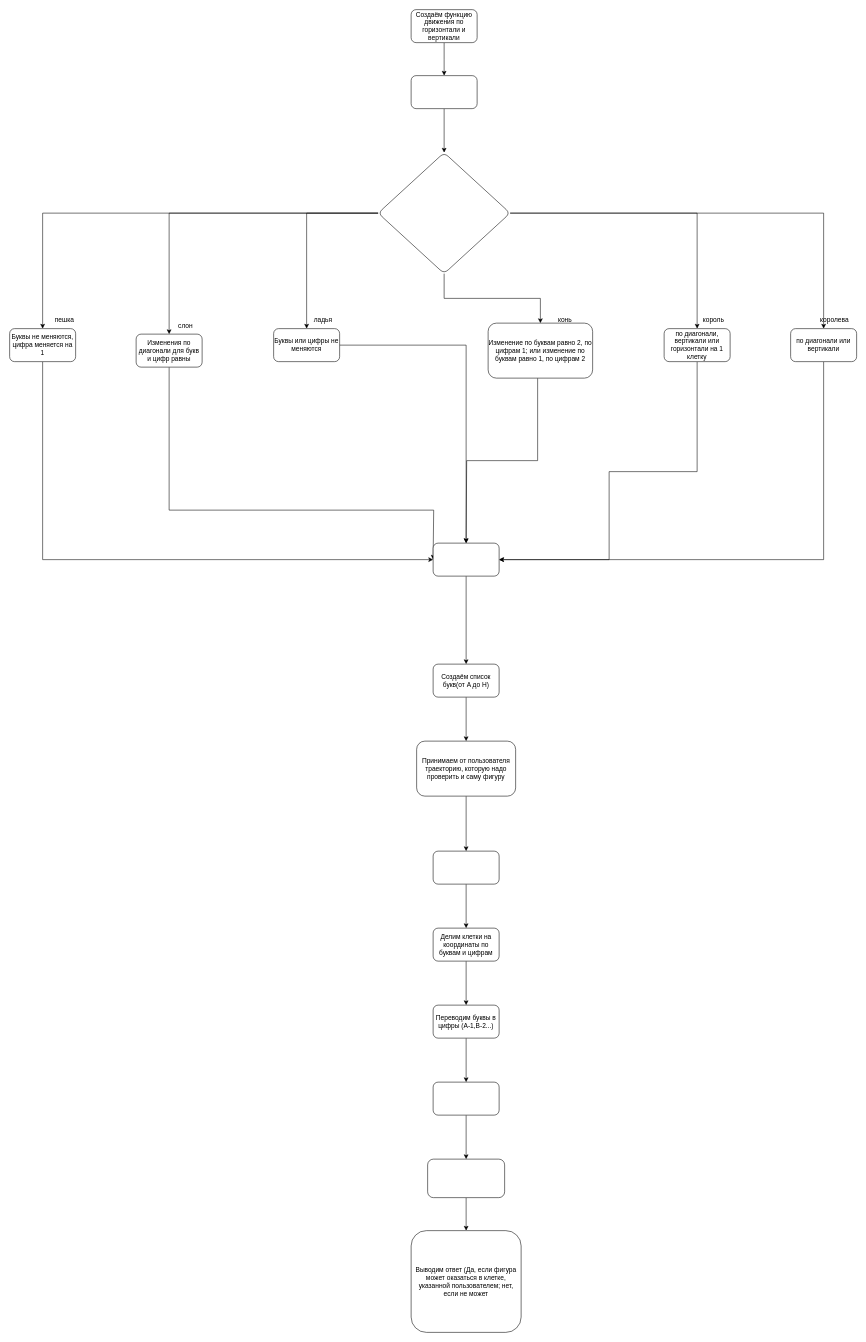
Some shapes in this 866 by 1342 pixel diagram are drawn without their labels. The shapes that lost their labels are listed below. From the top down, each one's centre as x and y in pixels, then its label:
At (x=444, y=92): "Создаём функцию движения по диагонали".
At (x=444, y=213): "Создаём функцию для движения для каждой фигуры".
At (x=466, y=559): "Создаём функцию, определяющую фигуру".
At (x=466, y=867): "Делим траекторию на начальную и конечную клетку".
At (x=466, y=1098): "Запускаем функцию по определению фигуры".
At (x=466, y=1178): "Она запускает функции для определения возможного движения".
